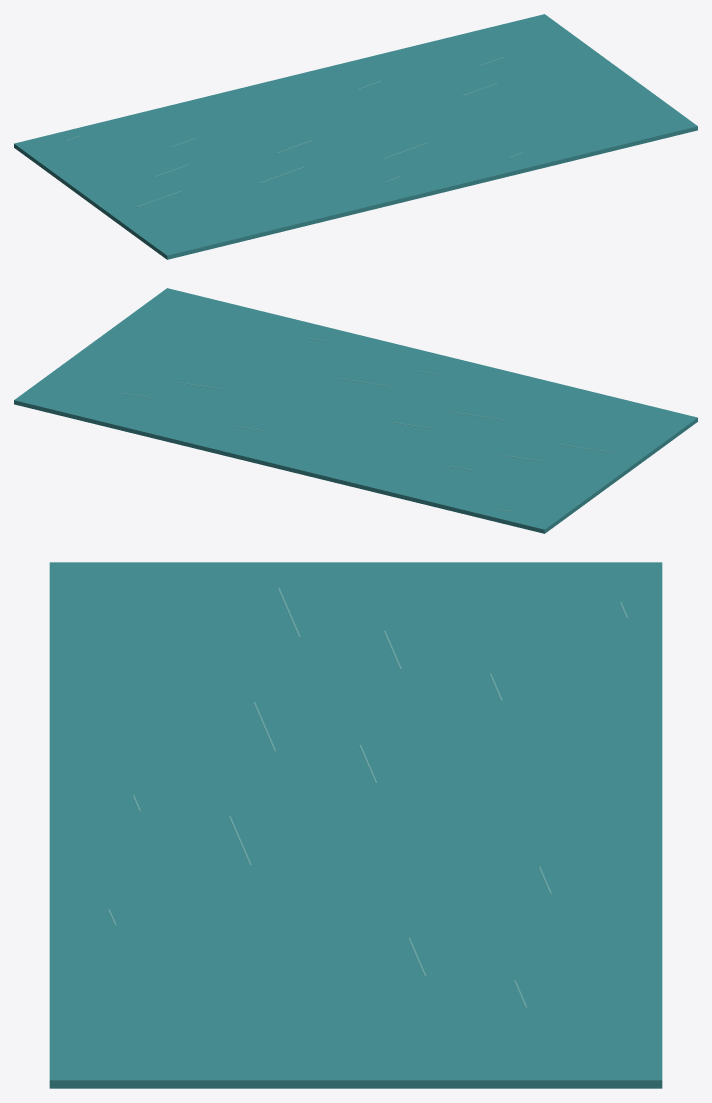
Rendered from water-tile-16.glb.
3 views of the same model, one above another, from view 1: azimuth 30°, elevation 25°; view 2: azimuth 150°, elevation 25°; view 3: azimuth 270°, elevation 25° (orthographic). The views are drawn at different scales.
Visible parts, largest first — view 1: water-tile-16; view 2: water-tile-16; view 3: water-tile-16.
Part boxes in pixels (bbox=[...]): water-tile-16: bbox=[14, 14, 697, 259]; water-tile-16: bbox=[14, 288, 697, 533]; water-tile-16: bbox=[49, 562, 662, 1088].
Size of the model in its own units: 16 by 0.128 by 8.
